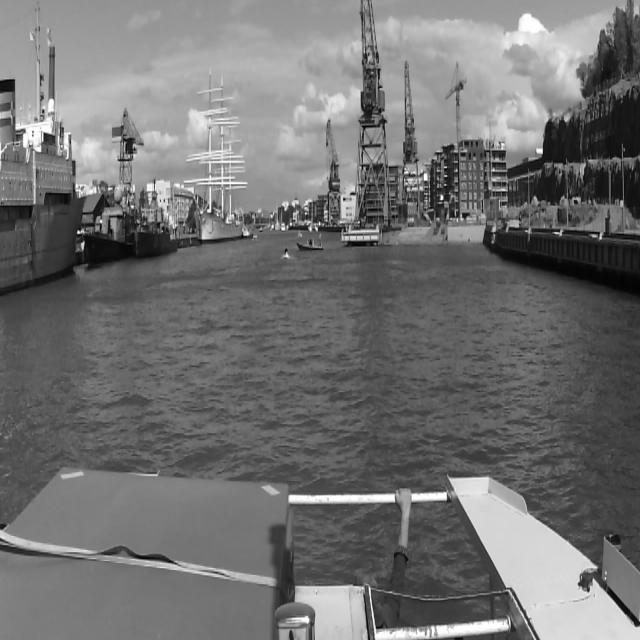ship: (0, 78, 86, 295), (197, 68, 247, 242), (82, 202, 130, 266), (134, 204, 176, 260), (308, 188, 322, 234), (294, 238, 326, 251), (240, 227, 254, 239), (295, 229, 303, 240), (252, 234, 258, 241)
